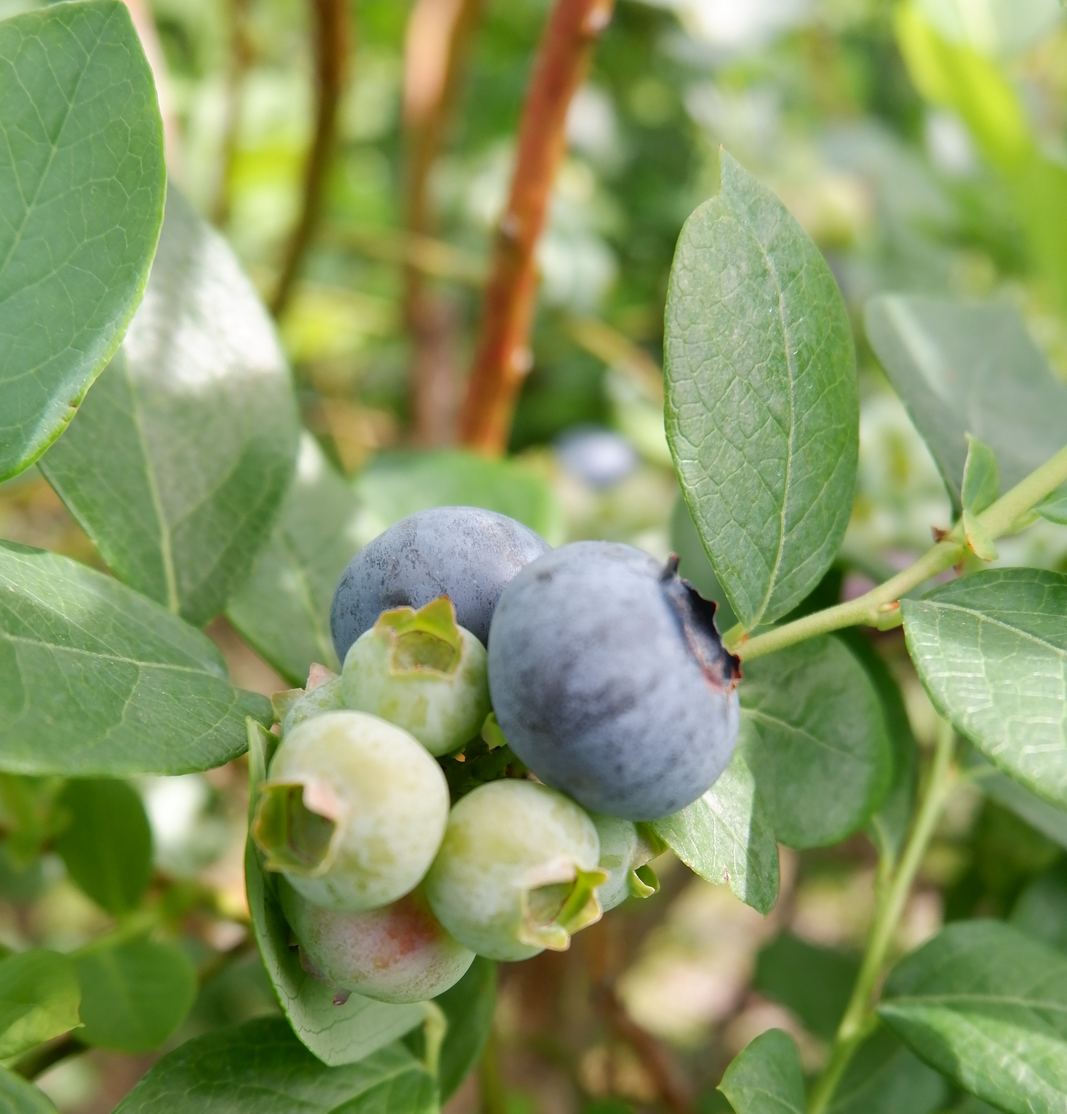Immature: (263, 709, 451, 912), (428, 781, 600, 959), (279, 876, 471, 1003), (344, 613, 485, 756), (592, 812, 661, 907), (279, 664, 344, 739)
Mature: (489, 541, 738, 817), (333, 511, 543, 653)
